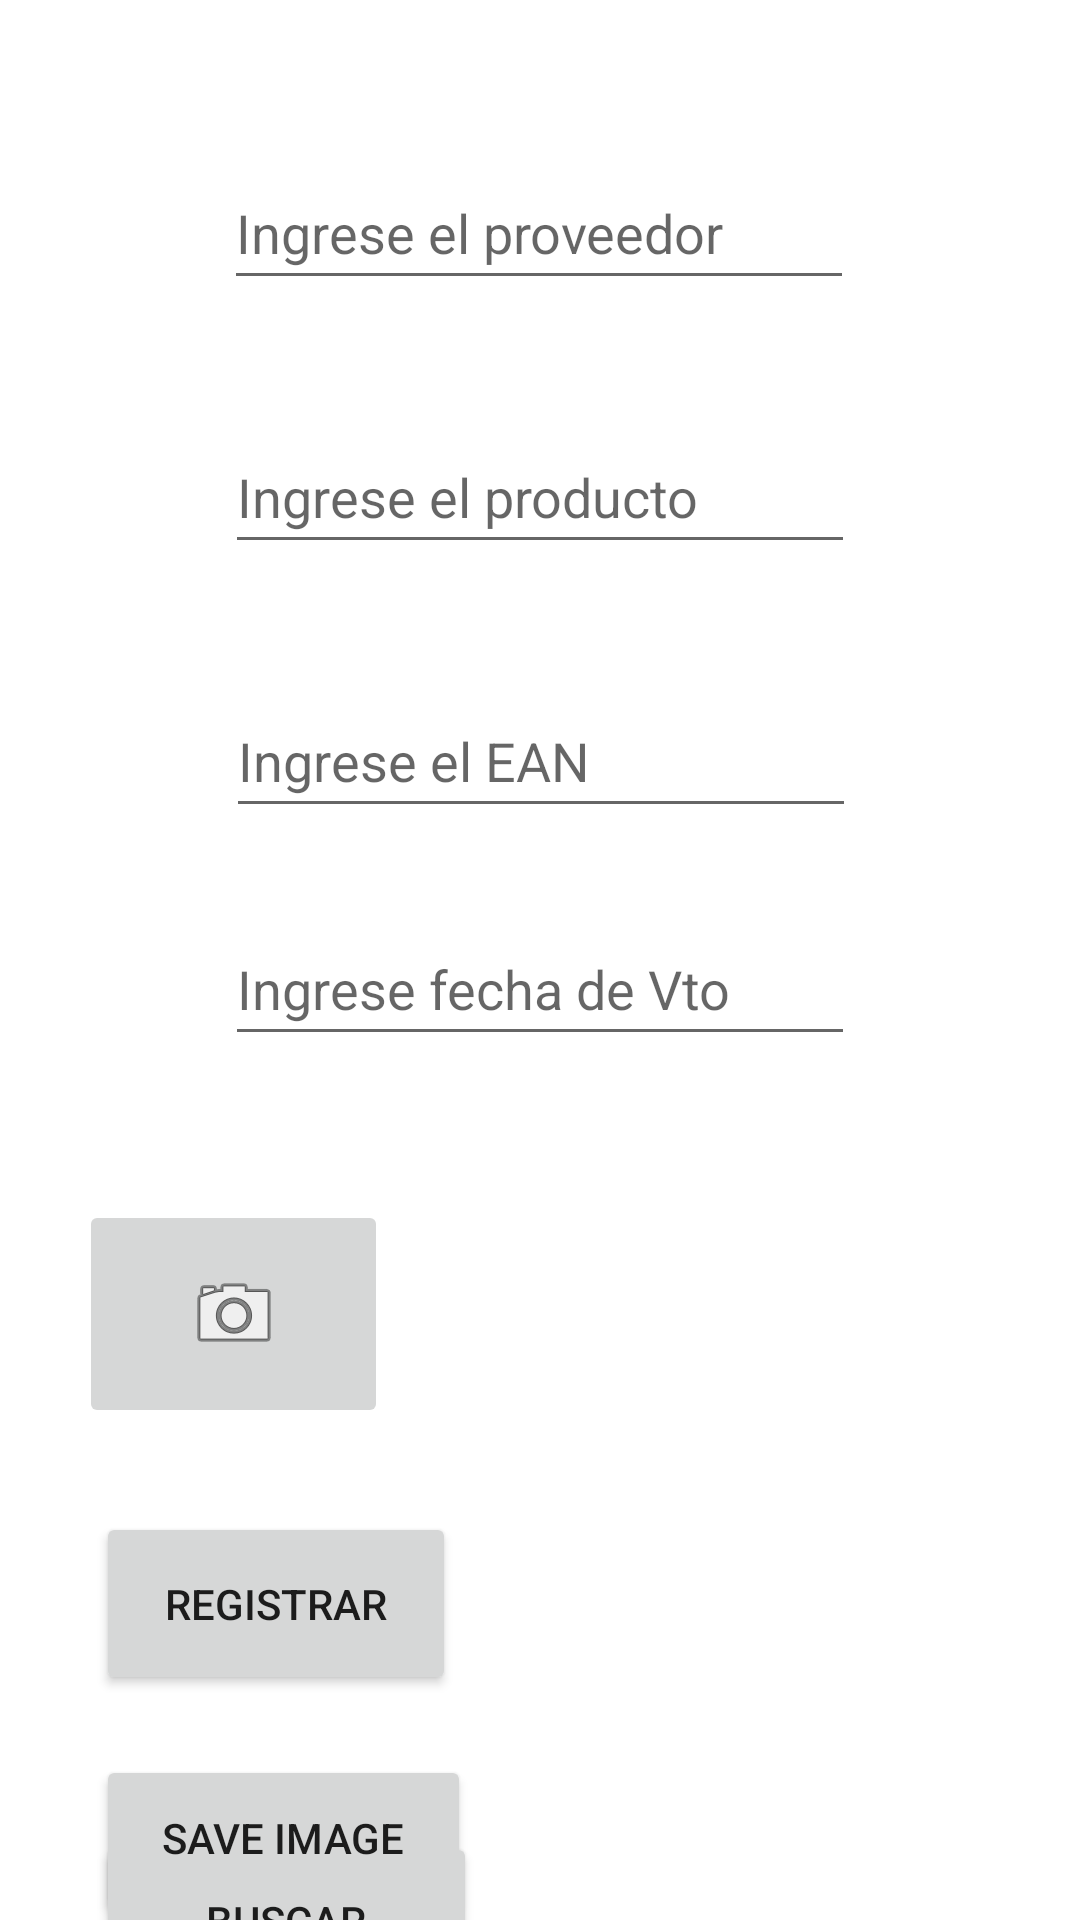

Icons on this 1080px x 1920px Android screen, each with the point to tap as (x=x, y=y):
Boton Camara: (x=233, y=1314)
